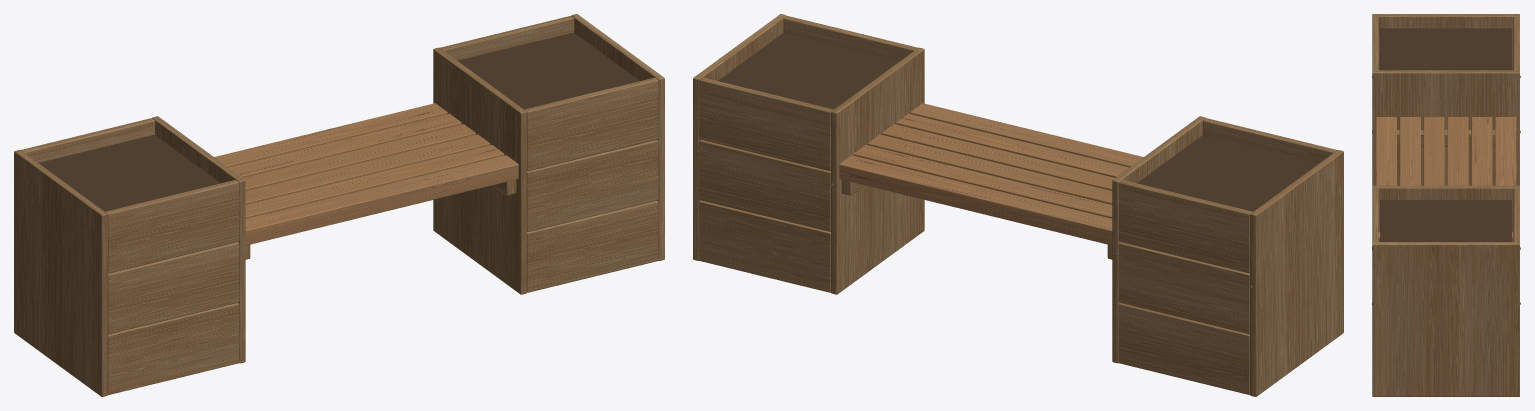
Rendered from outdoor-planter-bench.glb.
3 views of the same model, side by side, from view 1: azimuth 30°, elevation 25°; view 2: azimuth 150°, elevation 25°; view 3: azimuth 270°, elevation 25° (orthographic). The views are drawn at different scales.
Parts seen in each view (by area): view 1: outdoor-planter-bench authored assembly; view 2: outdoor-planter-bench authored assembly; view 3: outdoor-planter-bench authored assembly.
Part boxes in pixels (bbox=[...]): outdoor-planter-bench authored assembly: bbox=[14, 14, 664, 396]; outdoor-planter-bench authored assembly: bbox=[693, 14, 1343, 396]; outdoor-planter-bench authored assembly: bbox=[1372, 14, 1520, 396].
Size of the model in its own units: 2.2 by 0.68 by 0.6.
Materials: 6 (4 with a texture image).
